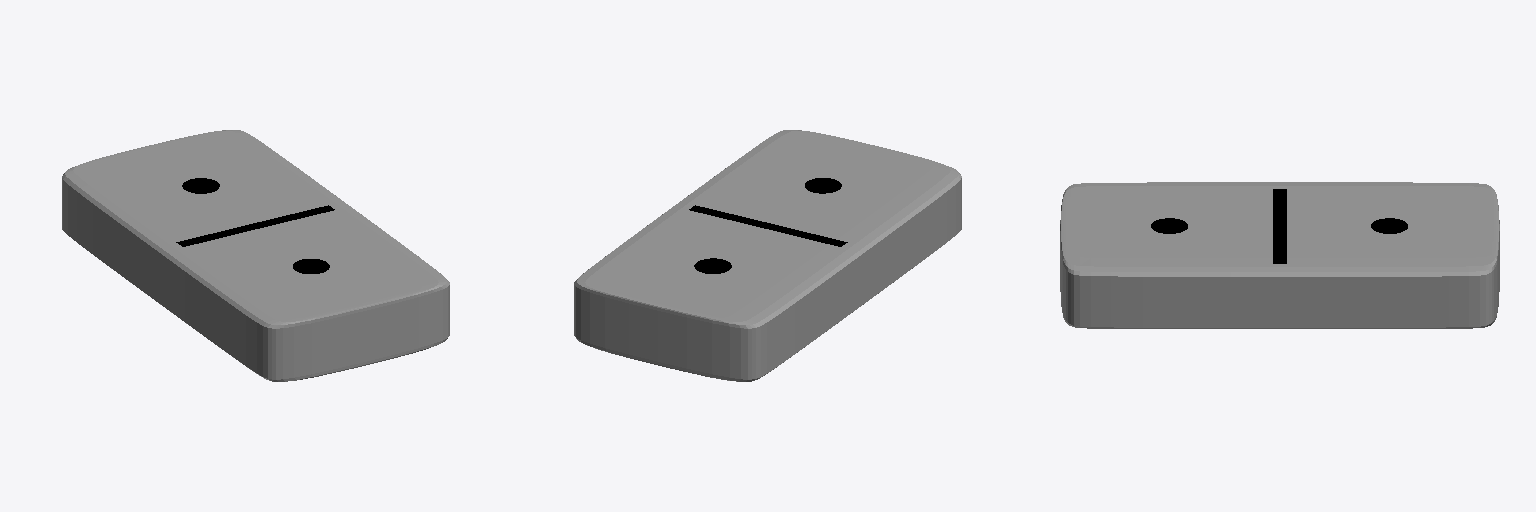
The picture shows the model from 3 angles: view 1: azimuth 30°, elevation 25°; view 2: azimuth 150°, elevation 25°; view 3: azimuth 270°, elevation 25°; orthographic projection.
Parts seen in each view (by area): view 1: Domino_1-1_Cube.019; view 2: Domino_1-1_Cube.019; view 3: Domino_1-1_Cube.019.
Part boxes in pixels (x1,y1,x2,y2): Domino_1-1_Cube.019: (62, 130, 449, 381); Domino_1-1_Cube.019: (574, 130, 961, 381); Domino_1-1_Cube.019: (1060, 182, 1499, 328).
Size of the model in its own units: 2 by 0.5993 by 3.99.